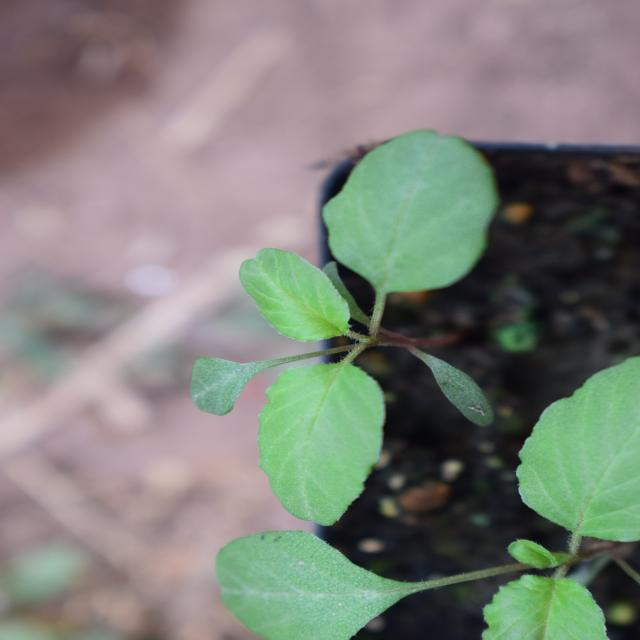pigweed: (126, 189, 502, 524)
